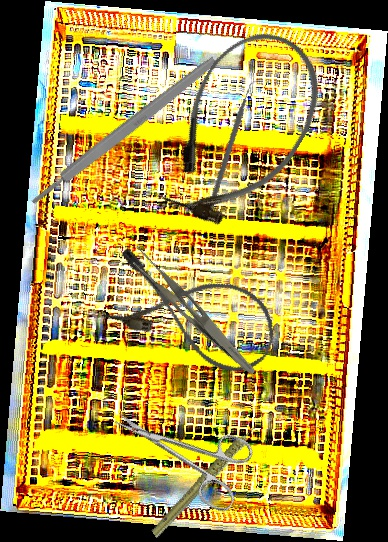Cannula: (139, 12, 344, 246), (95, 241, 289, 384)
Chopper: (175, 77, 293, 221)
Dressing Forceps: (119, 241, 270, 378)
Handpiece: (133, 420, 284, 540)
Iris Scissors: (100, 382, 262, 516)
Scalpel Handle: (28, 54, 219, 208)
